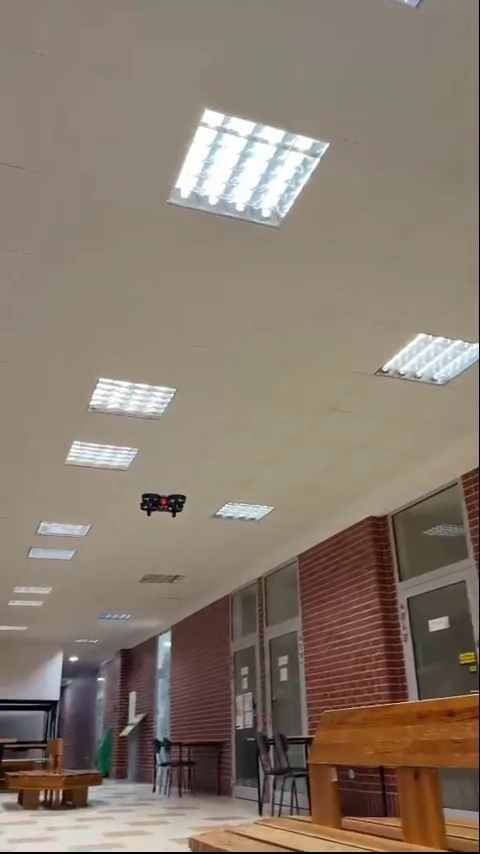drone: (137, 497, 191, 521)
